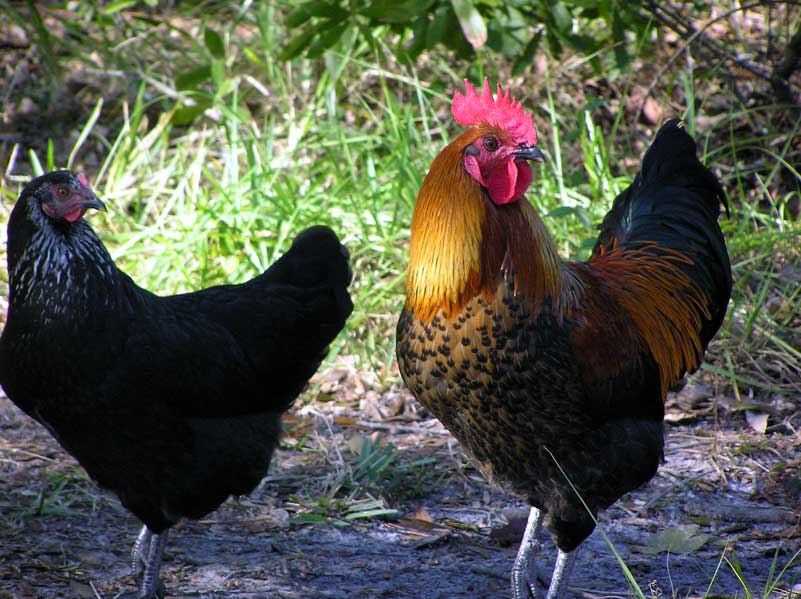chicken: (382, 74, 752, 586), (5, 159, 366, 584)
